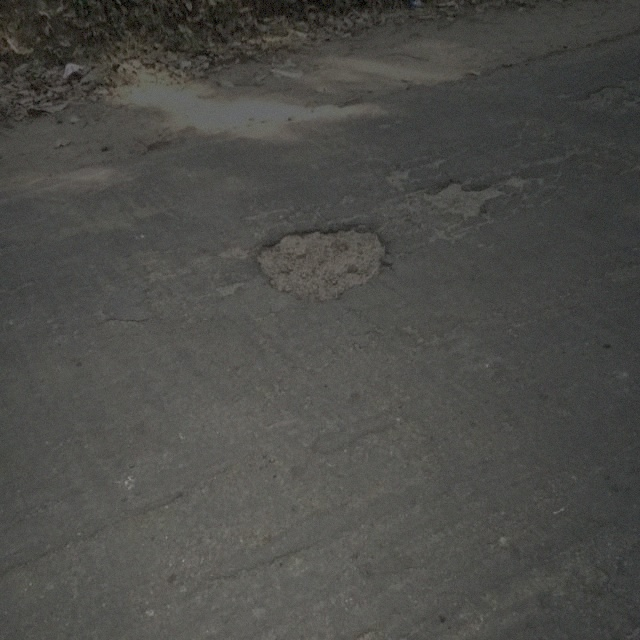pothole: (251, 220, 389, 303), (419, 177, 506, 219)
